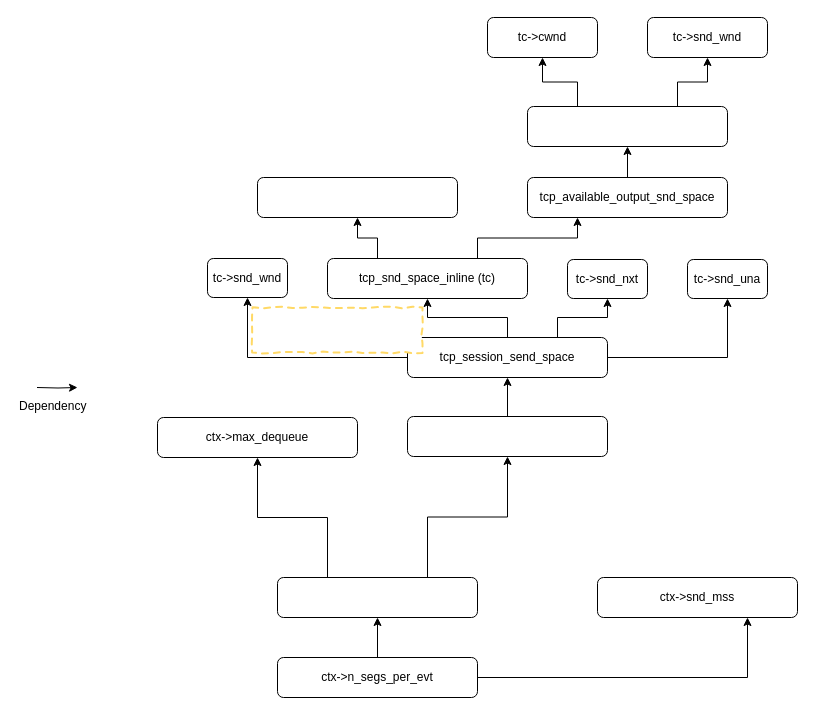
The diagram is 815 pixels wide and 715 high, and some of its shapes have lost their labels. The shapes that lost their labels are listed below. From the top down, each one's centre as x and y in pixels, then its label:
At (x=627, y=126): "tcp_available_snd_wnd".
At (x=357, y=197): "tcp_round_snd_space".
At (x=337, y=329): "send space大小主要受制于 tcp_snd_space_inline (tc)返回的结果。".
At (x=507, y=436): "ctx->snd_space".
At (x=377, y=597): "ctx->max_len_to_snd".
